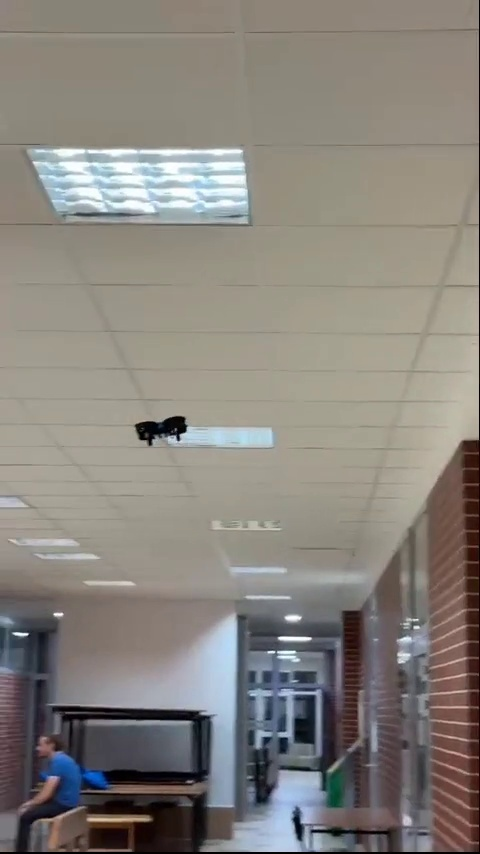drone: (134, 411, 187, 448)
no vest: (6, 728, 89, 822)
